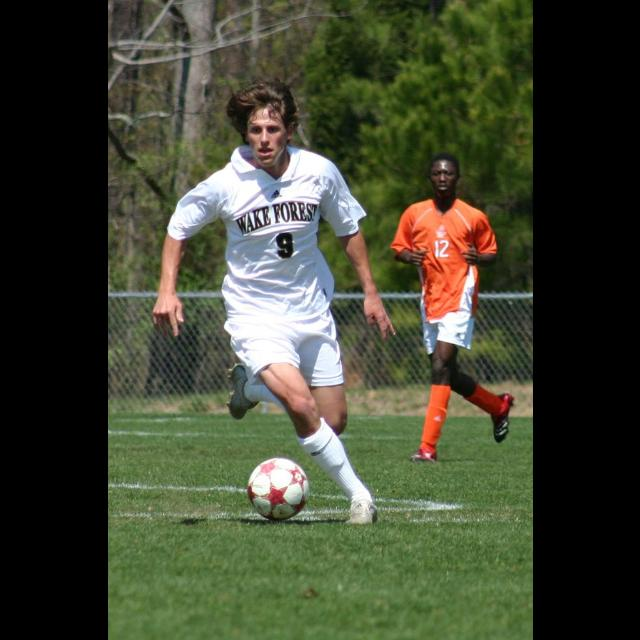Football: (244, 454, 308, 528)
